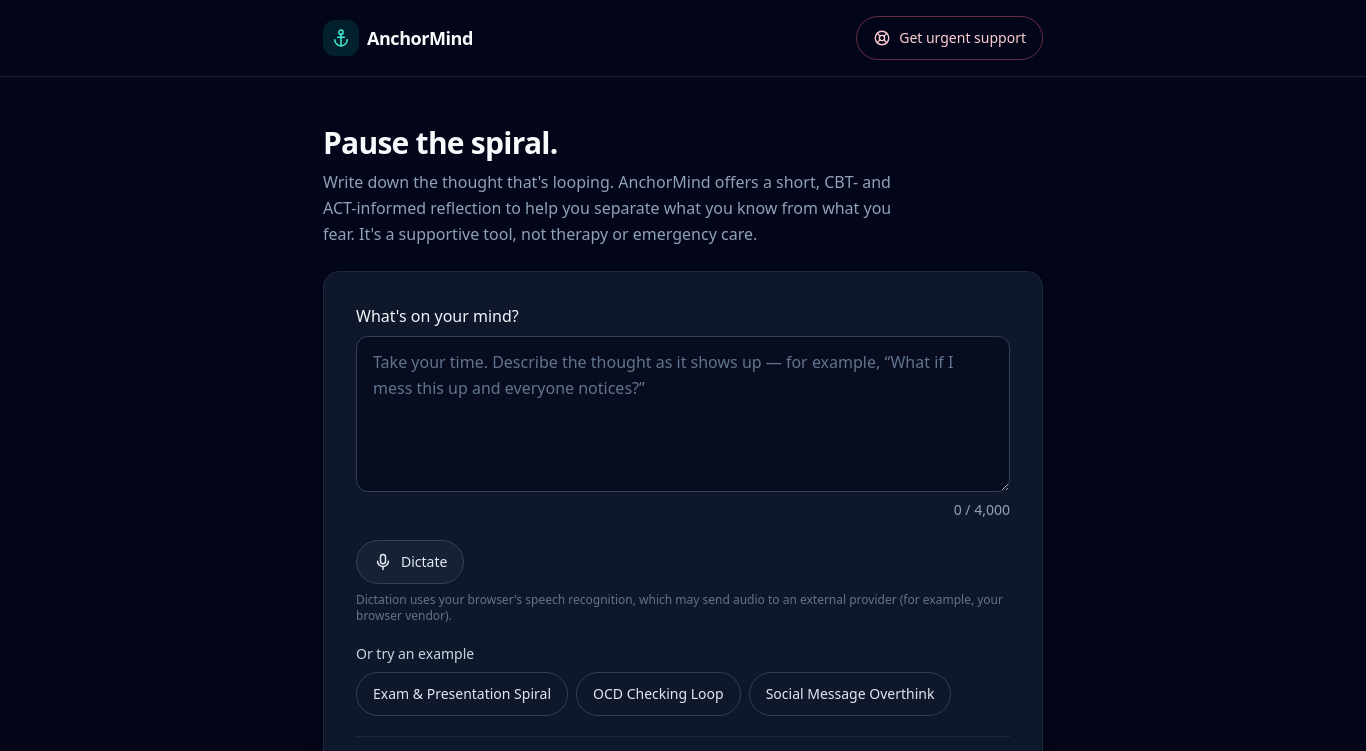
Test: Home page flow › ignores a late response after cancel
Replace the text in the text box labelled "What's on your mind?" with "slow one" at (683, 414), box left=356, top=336, right=1010, bottom=492
(page scrolled)
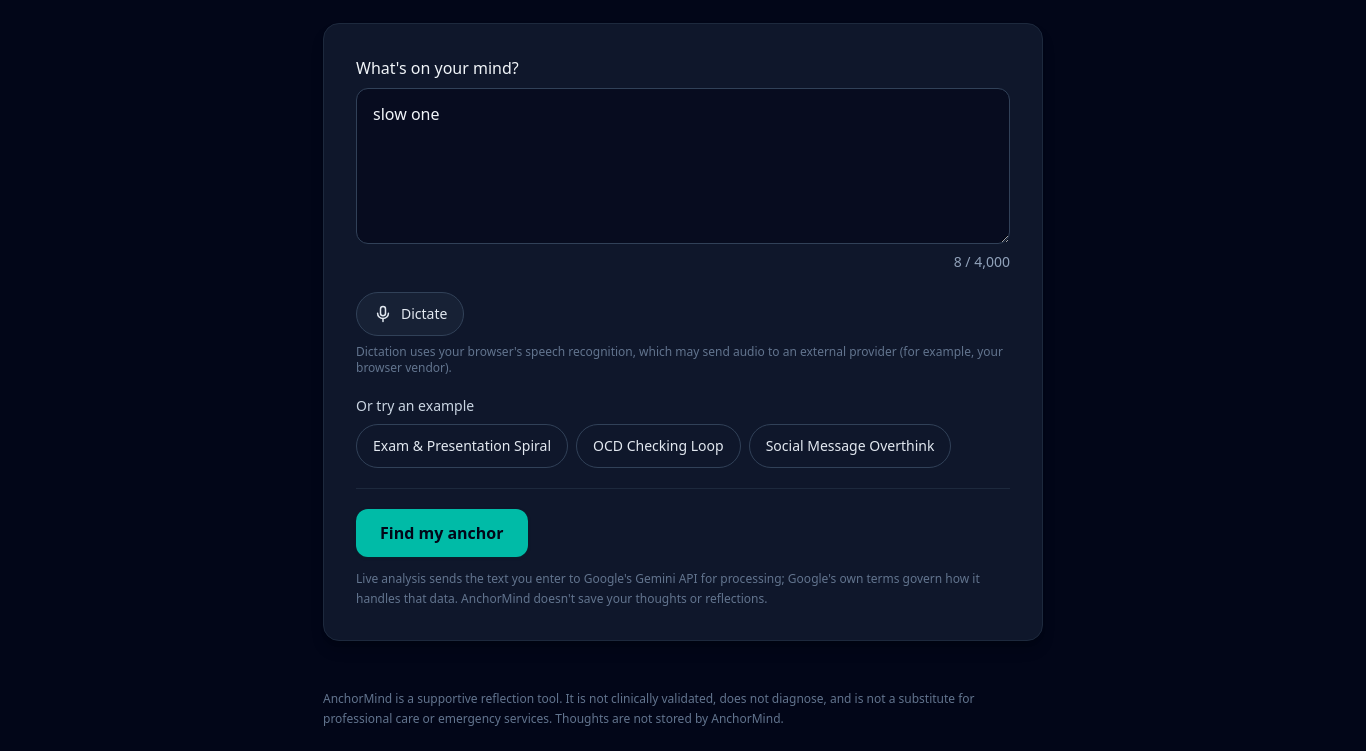
Click the button "Find my anchor".
click(442, 533)  # box left=356, top=509, right=528, bottom=557
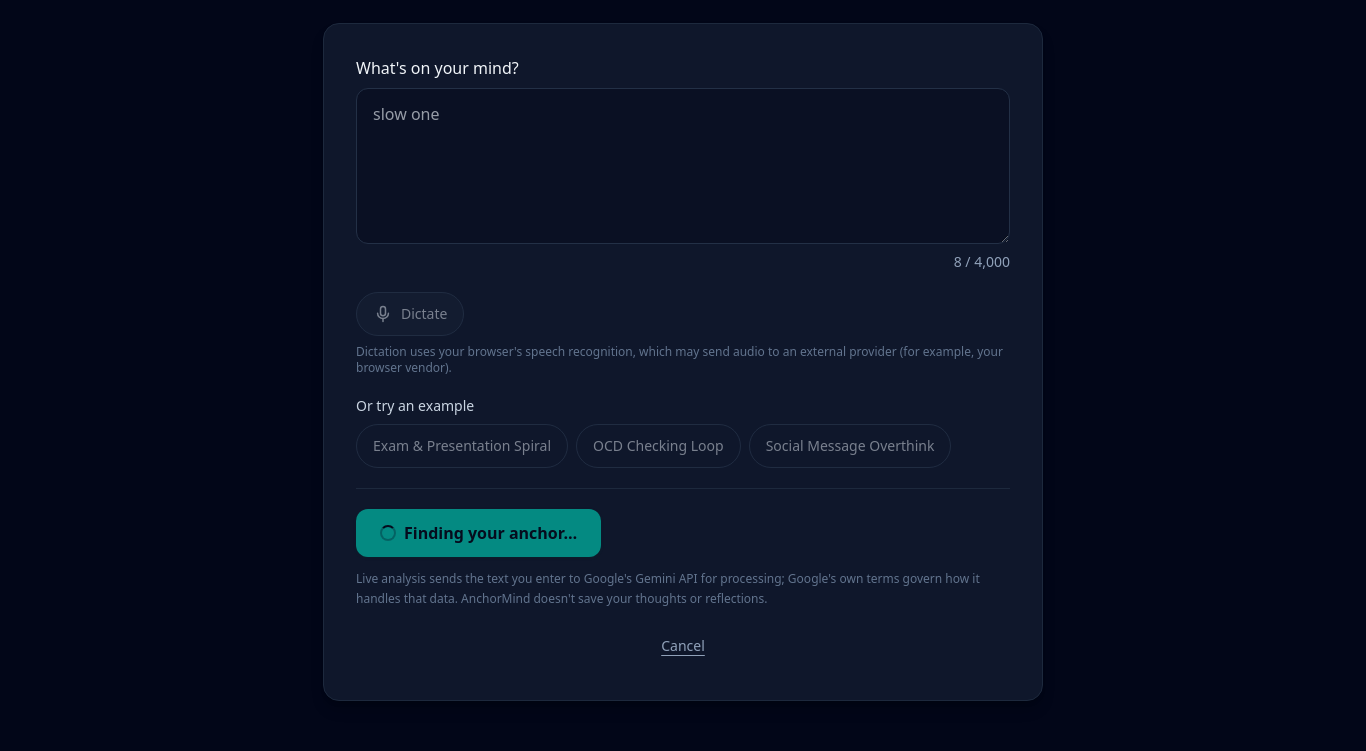
Click the button "Cancel".
click(683, 646)  # box left=645, top=624, right=721, bottom=668
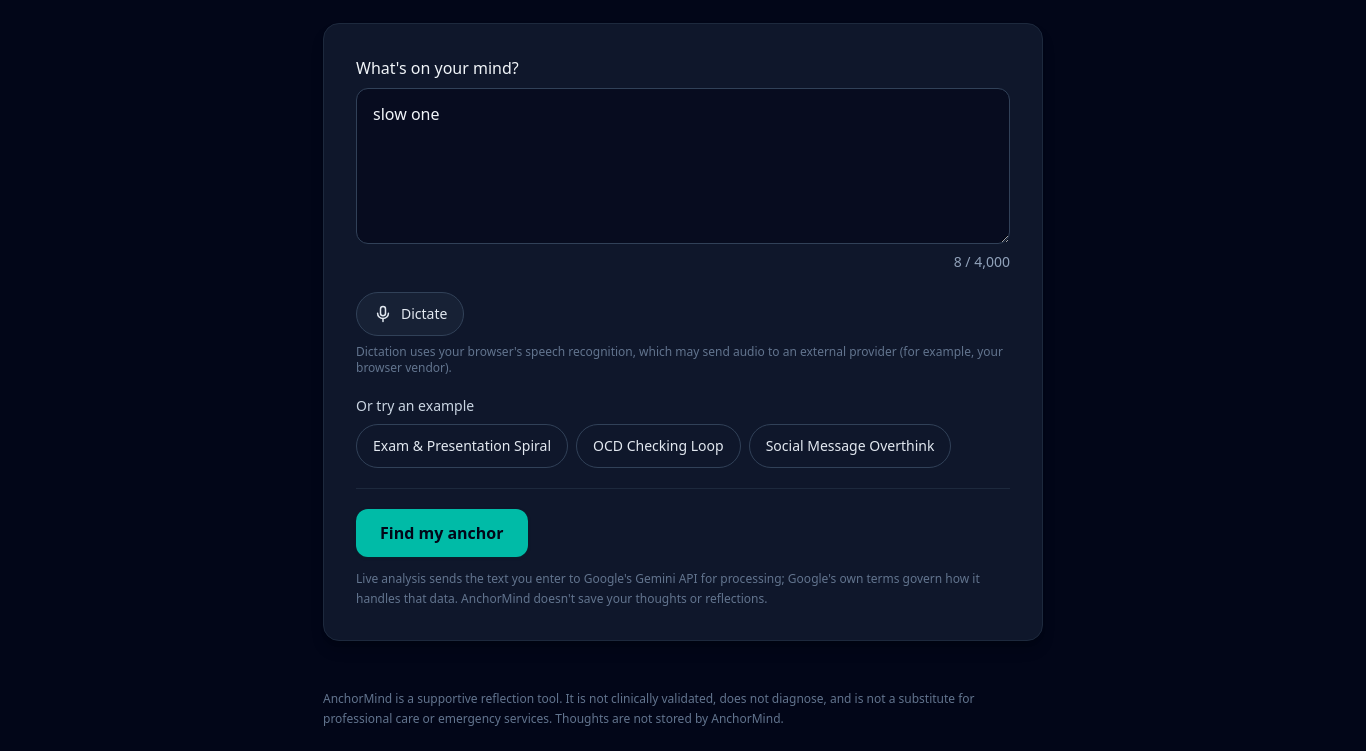
Result: the button "Find my anchor" is enabled at left=356, top=509, right=528, bottom=557
